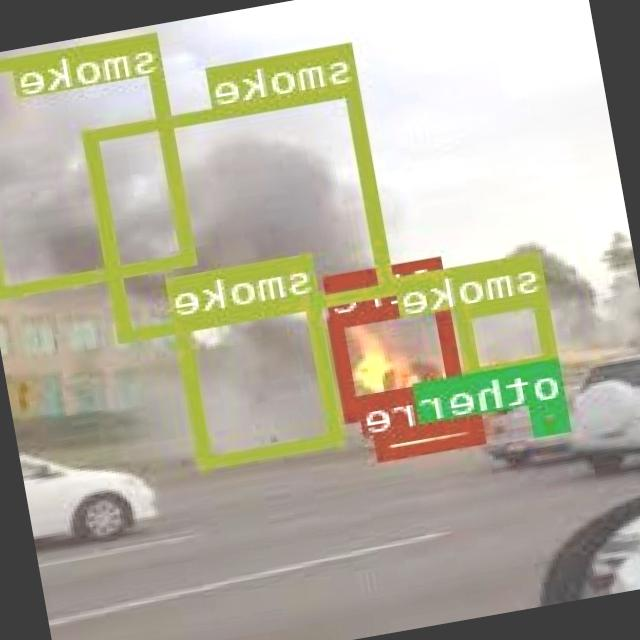fire: (332, 294, 468, 419), (378, 415, 488, 458)
smoke: (85, 82, 398, 338), (0, 30, 199, 294), (175, 290, 348, 467), (456, 289, 559, 376)
